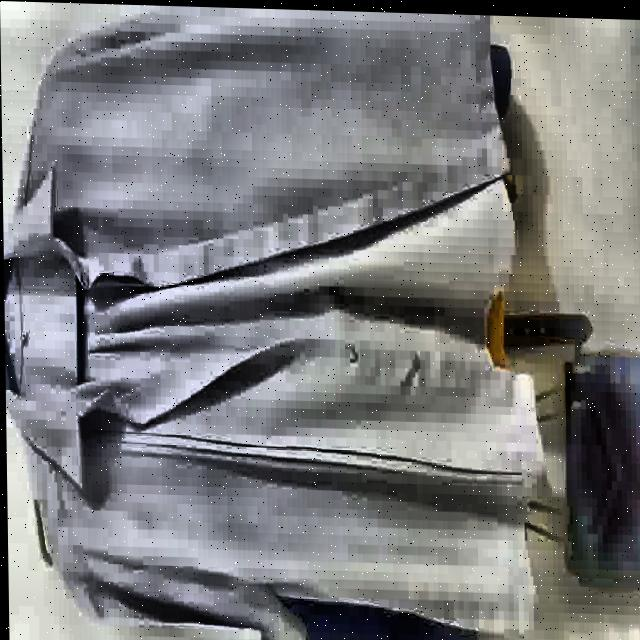clothes: (0, 0, 549, 640)
